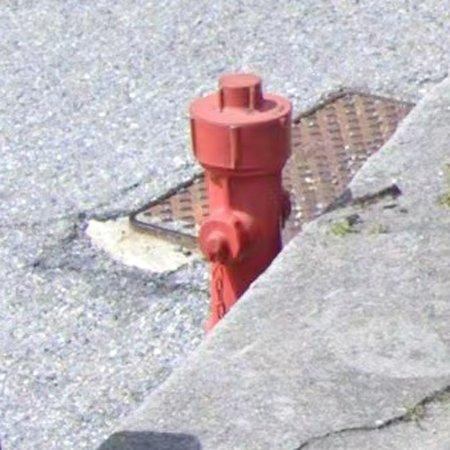a fire hydrant: (190, 74, 292, 330)
